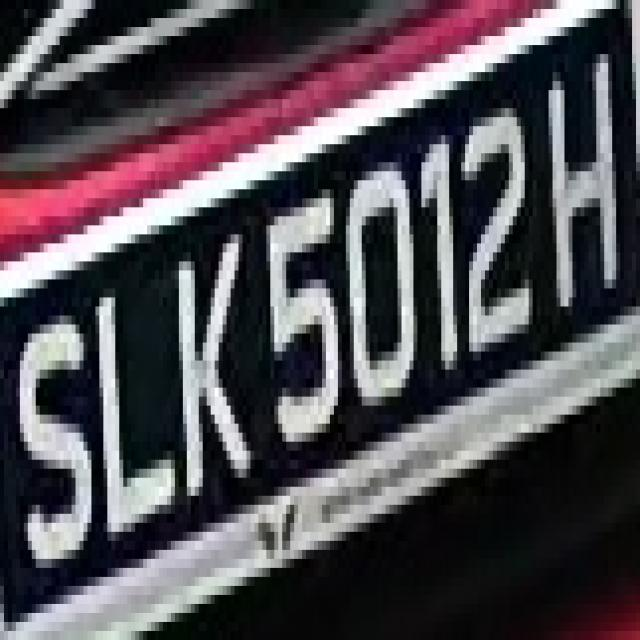0: (330, 135, 417, 442)
1: (417, 63, 465, 406)
2: (457, 90, 537, 370)
5: (266, 180, 342, 451)
H: (533, 45, 624, 334)
K: (163, 189, 242, 514)
L: (87, 243, 183, 541)
S: (4, 261, 95, 559)
